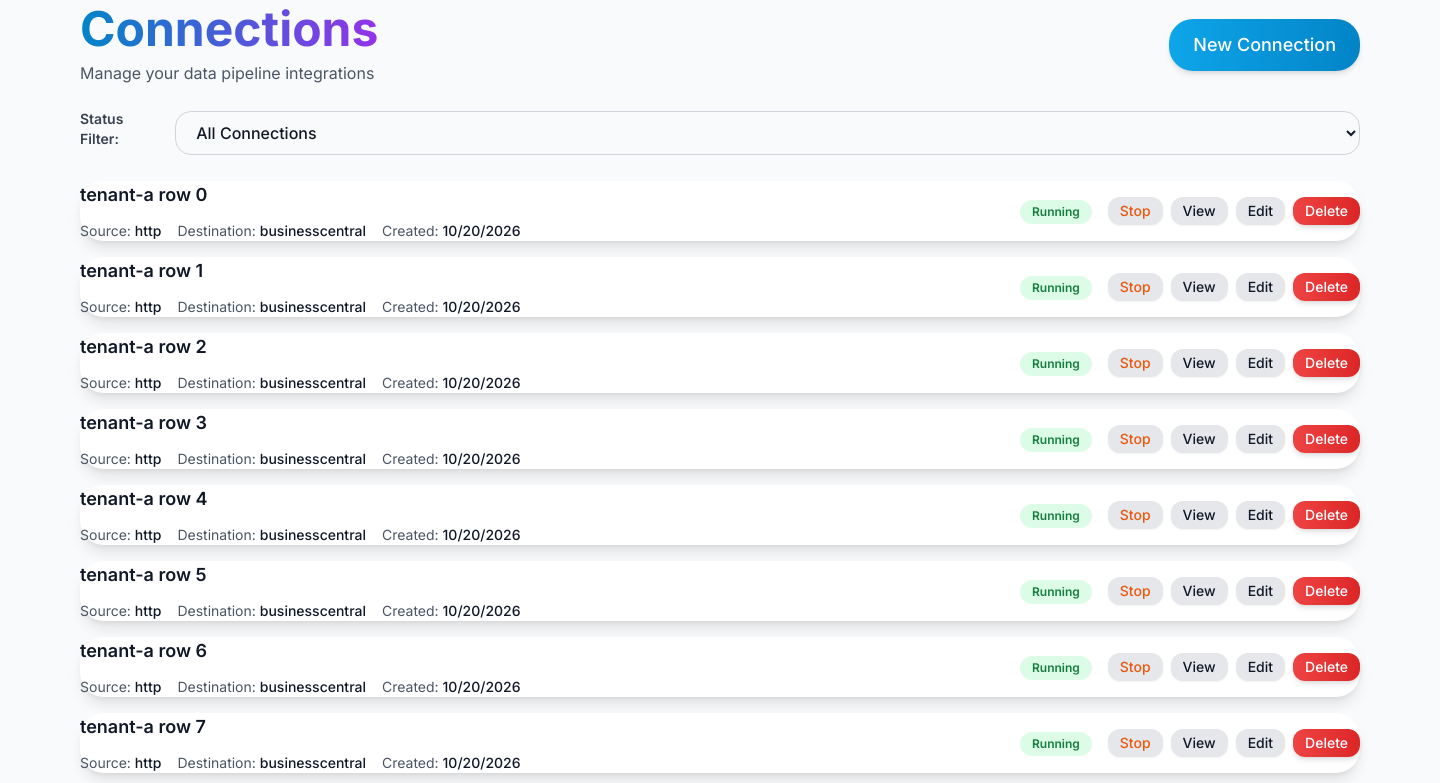
Scenario: ConnectionsList: a late delete and a failed load (#515) › delete answering after a reload › keeps the new page total when a page change lands before the delete answers
This screenshot has width=1440, height=783.
Click the button "Delete" in the row of "tenant-a row 0": coordinates (1327, 211) [1293,197,1360,225]
(page scrolled)
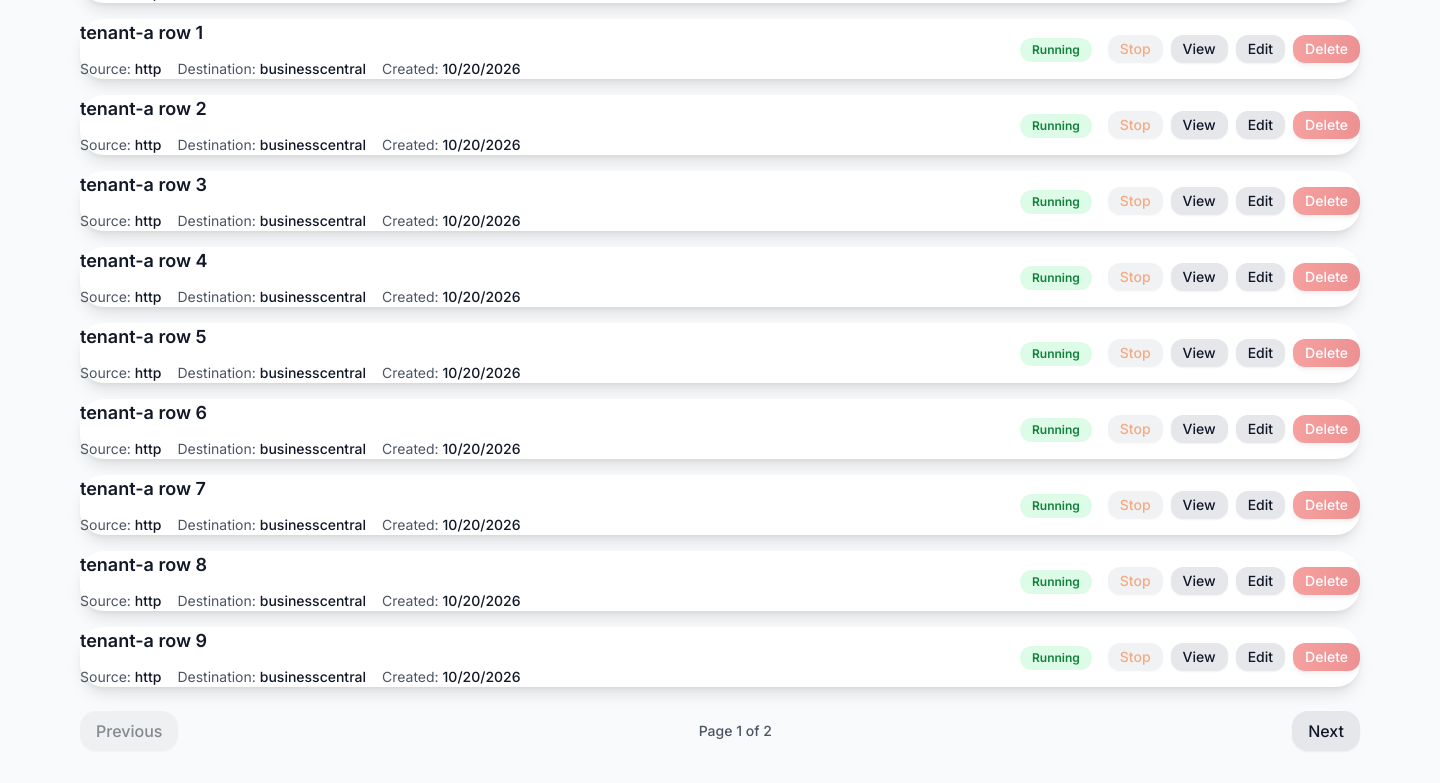
Click the button "Next": coordinates (1326, 731) [1292,711,1360,751]
(page scrolled)
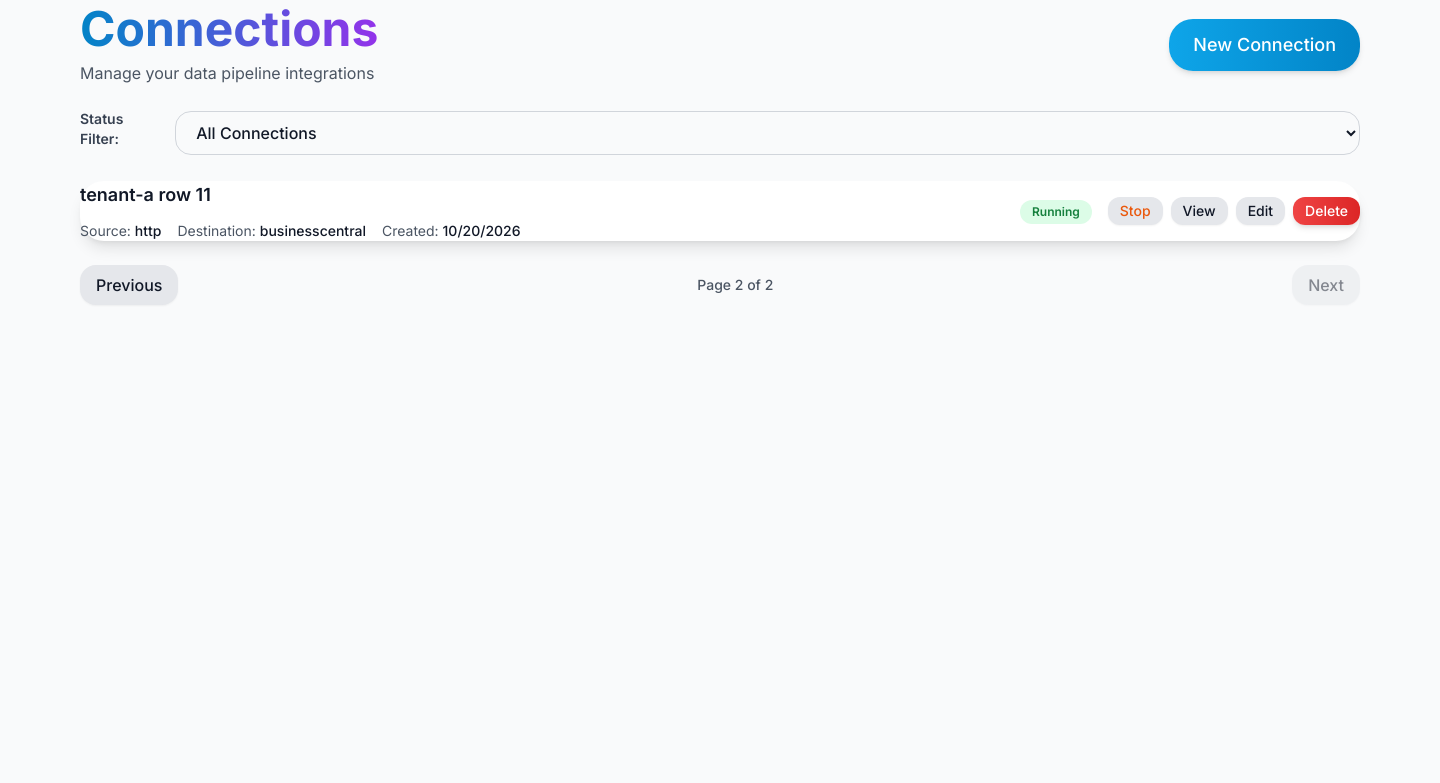
Expected: the text "Page 2 of 2" is shown, [697,275,773,295]
